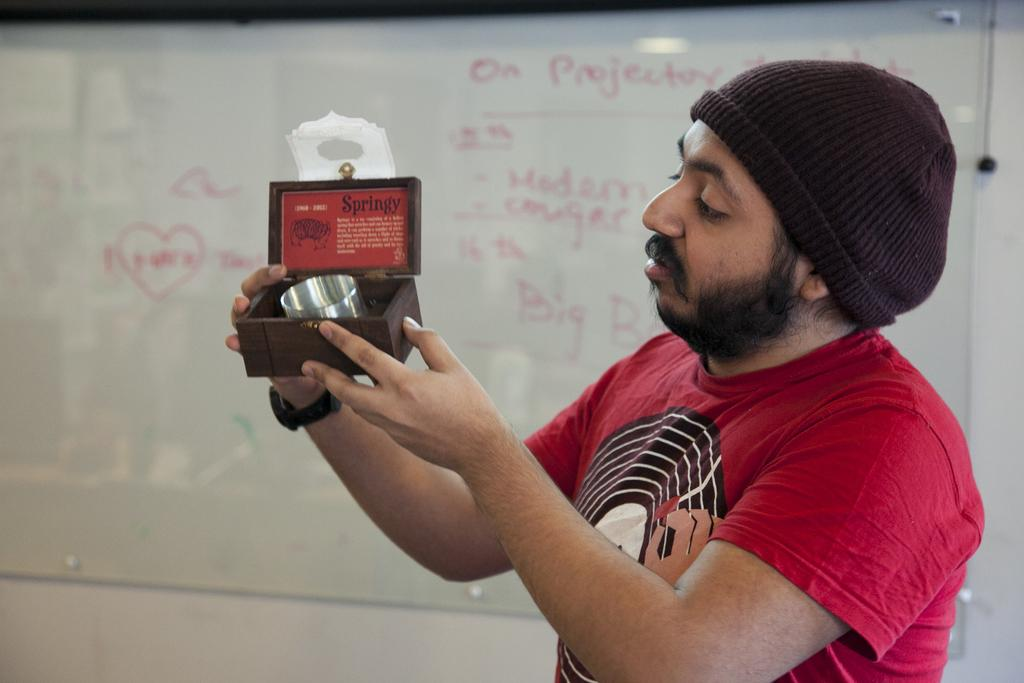Pessoa: (275, 61, 982, 682)
